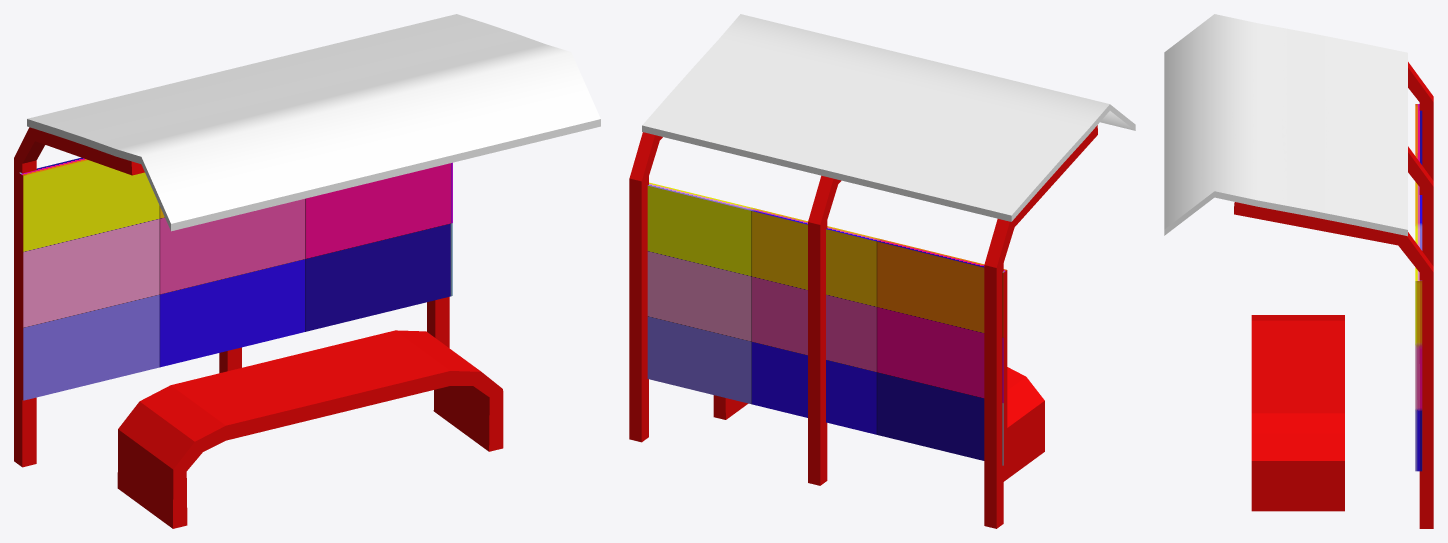
Rendered from bus stop.FBX.
The picture shows the model from 3 angles, left to right: view 1: azimuth 30°, elevation 25°; view 2: azimuth 150°, elevation 25°; view 3: azimuth 270°, elevation 25°; orthographic projection. The views are drawn at different scales.
Visible parts, largest first — view 1: bus stop; view 2: bus stop; view 3: bus stop.
Boxes of the visible parts, box(x1,y1,x2,y2) form: bus stop: box(14, 14, 600, 528); bus stop: box(629, 14, 1135, 528); bus stop: box(1164, 14, 1433, 528).
Size of the model in its own units: 118 by 105 by 75.8.
